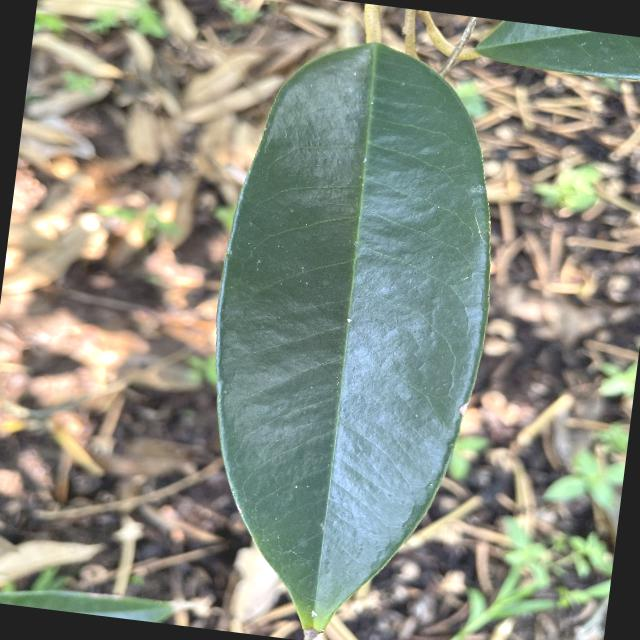No Disease: (170, 19, 528, 639)
